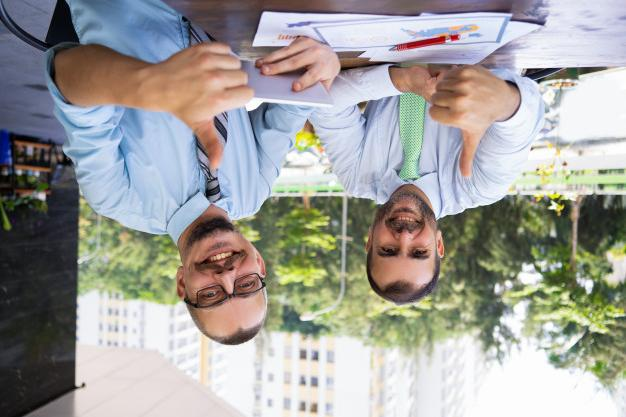thumbsdown: (183, 43, 254, 170), (428, 64, 481, 179)
